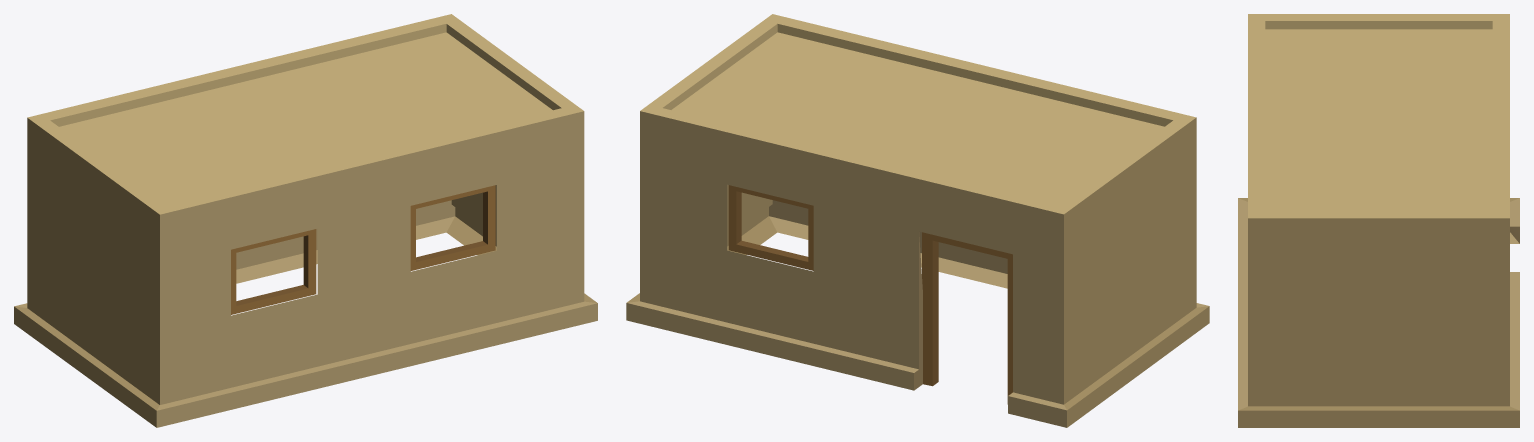
File: DHouse.fbx
3 views of the same model, side by side, from view 1: azimuth 30°, elevation 25°; view 2: azimuth 150°, elevation 25°; view 3: azimuth 270°, elevation 25° (orthographic).
Parts seen in each view (by area): view 1: MHouse2; view 2: MHouse2; view 3: MHouse2.
Boxes of the visible parts, x1=… form: MHouse2: x1=14, y1=14, x2=597, y2=427; MHouse2: x1=626, y1=14, x2=1209, y2=427; MHouse2: x1=1238, y1=14, x2=1519, y2=427.
Bounding box in the file's own units: 2.84 × 1.28 × 1.59.
